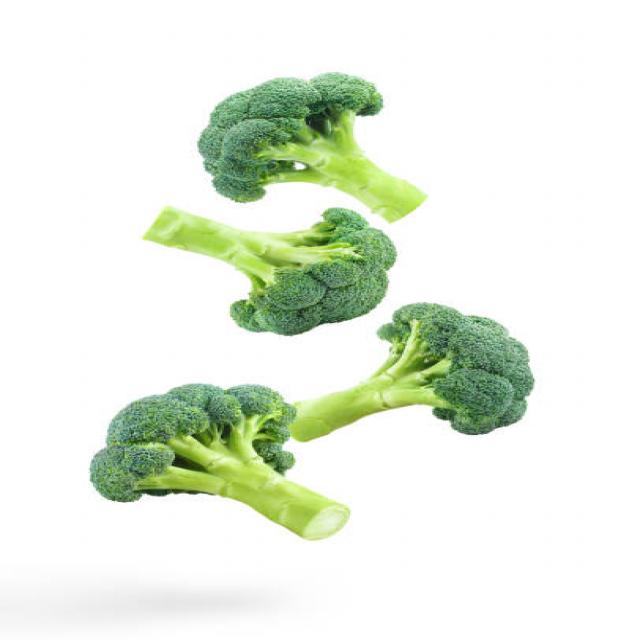broccoli: (188, 46, 489, 196), (104, 202, 386, 324), (80, 381, 310, 523), (386, 302, 553, 457)
